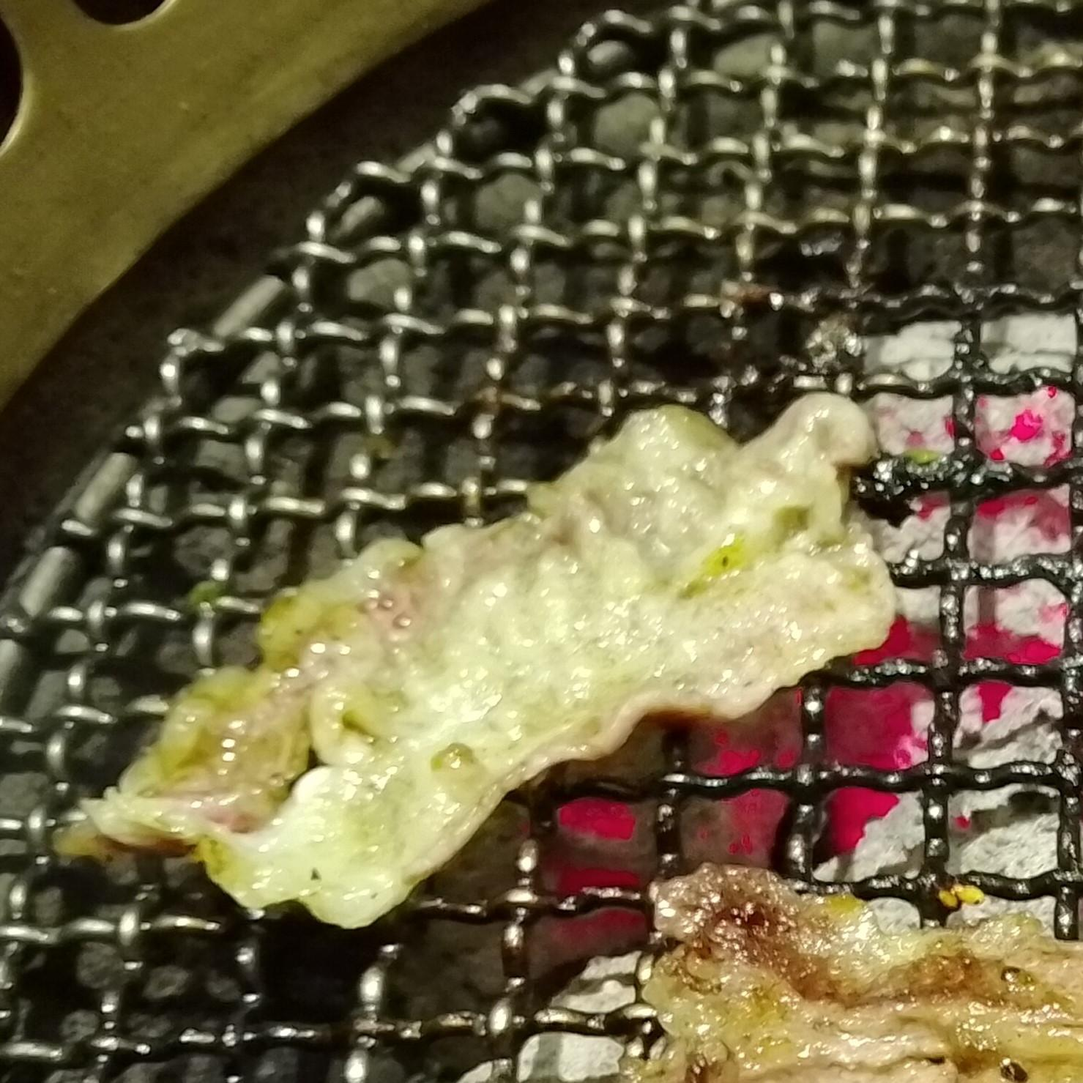Overcooked: (633, 866, 1082, 1082)
Well-Cooked: (62, 392, 899, 934)
